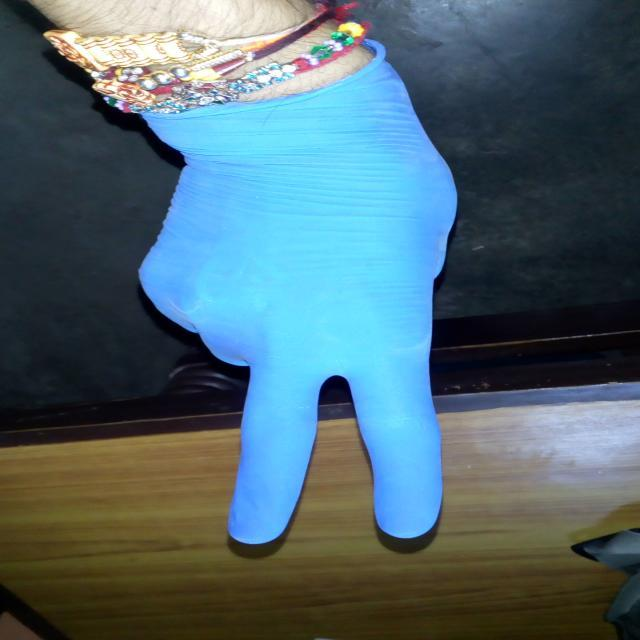gloved_hand: (103, 26, 476, 550)
